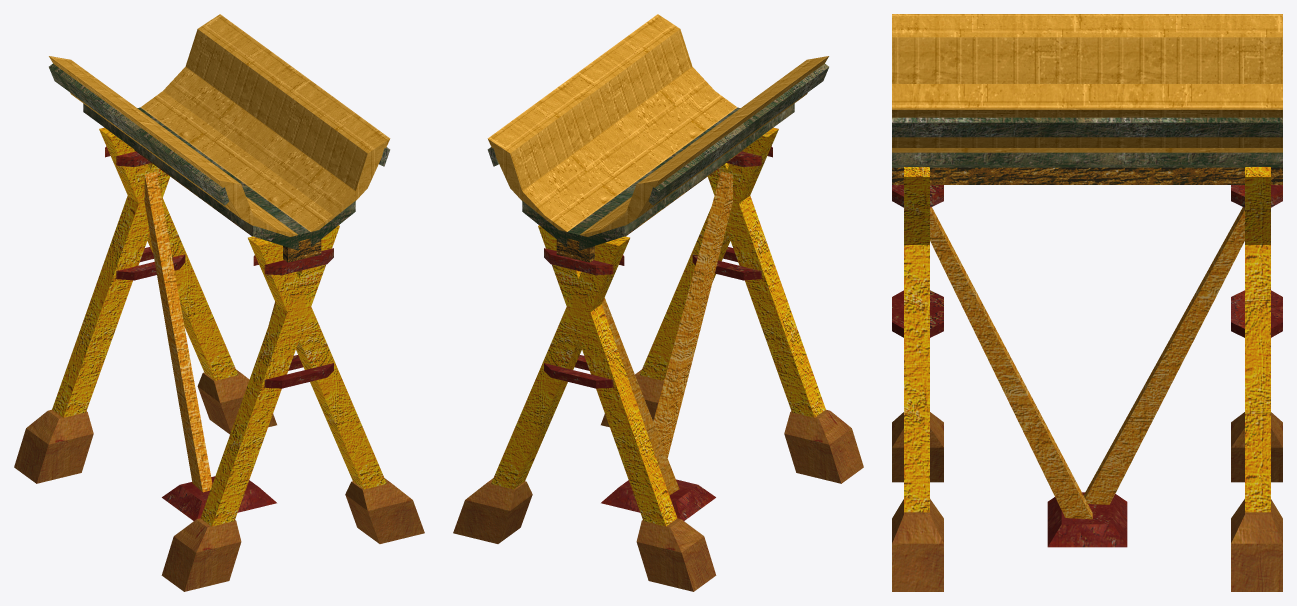
3 views of the same model, side by side, from view 1: azimuth 30°, elevation 25°; view 2: azimuth 150°, elevation 25°; view 3: azimuth 270°, elevation 25° (orthographic). The views are drawn at different scales.
Parts seen in each view (by area): view 1: aq; view 2: aq; view 3: aq.
Boxes of the visible parts, x1,y1,x2,y2 form: aq: (14,14,424,591); aq: (453,14,863,591); aq: (892,14,1282,591).
Size of the model in its own units: 5 by 8 by 6.13.
Materials: 7 (7 with a texture image).
